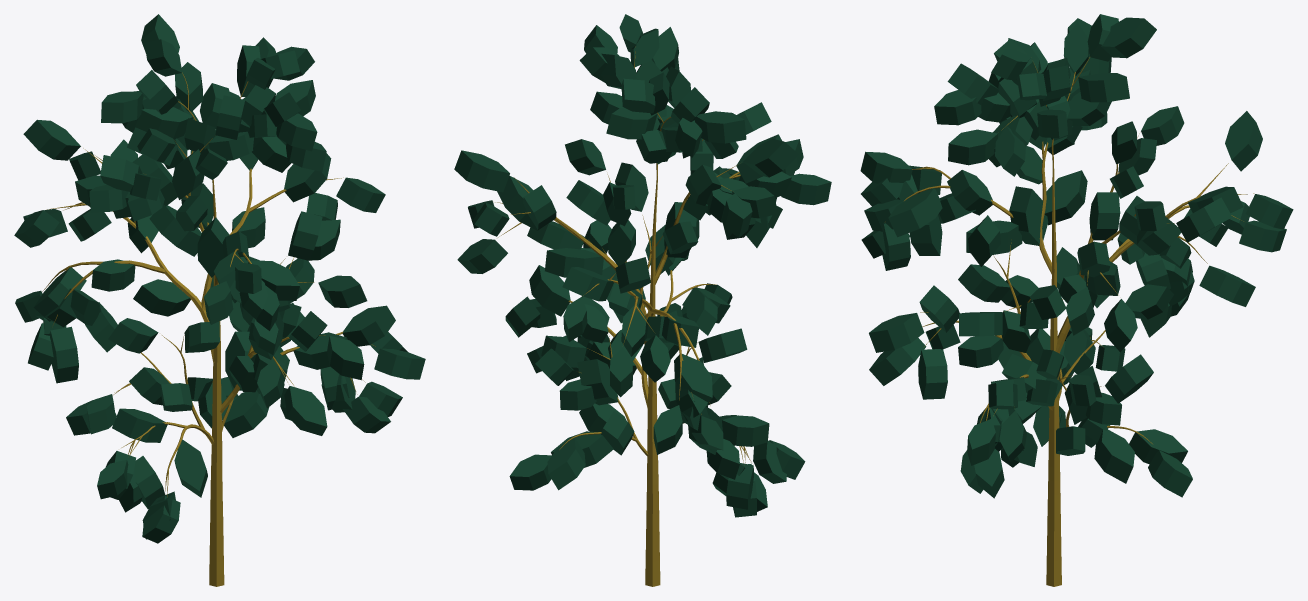
File: shrub.fbx
3 views of the same model, side by side, from view 1: azimuth 30°, elevation 25°; view 2: azimuth 150°, elevation 25°; view 3: azimuth 270°, elevation 25° (orthographic). The views are drawn at different scales.
Visible parts, largest first — view 1: shrub; view 2: shrub; view 3: shrub.
Part boxes in pixels (x1,y1,x2,y2): shrub: [14, 14, 425, 586]; shrub: [454, 14, 831, 586]; shrub: [860, 14, 1293, 586].
Bounding box in the file's own units: 72.3 × 119 × 84.03.
